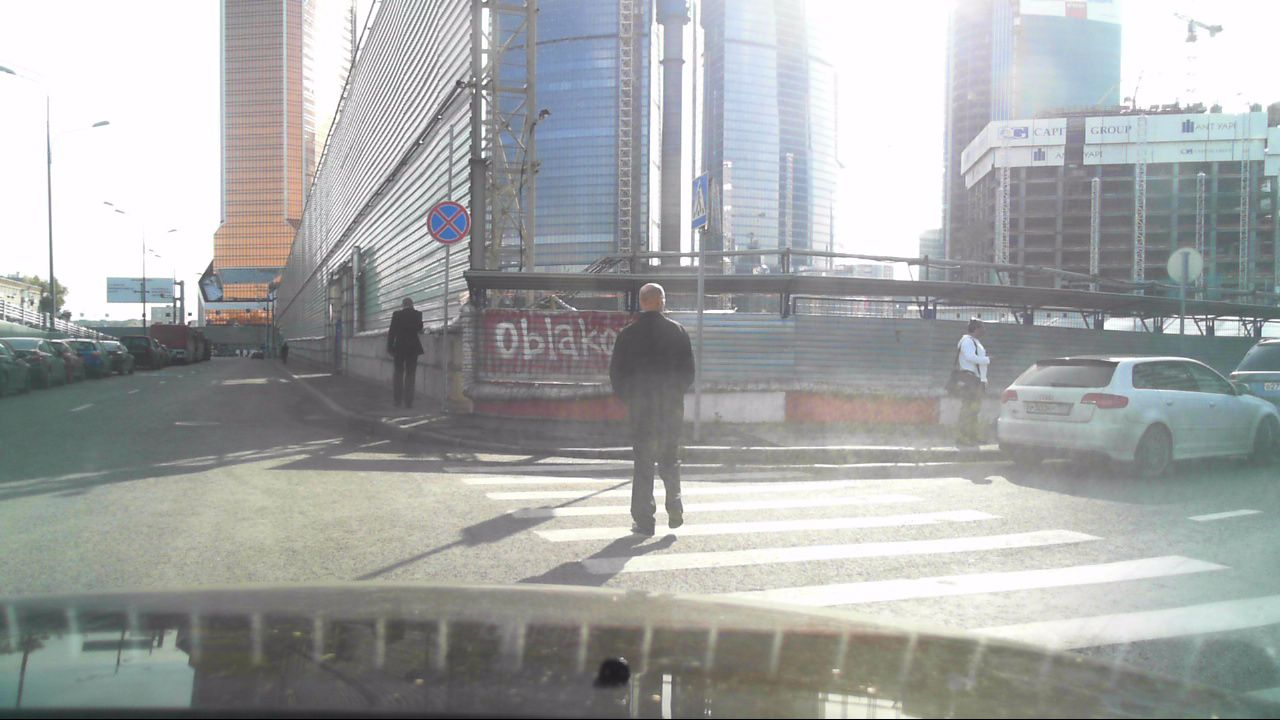No Parking: (426, 200, 470, 244)
